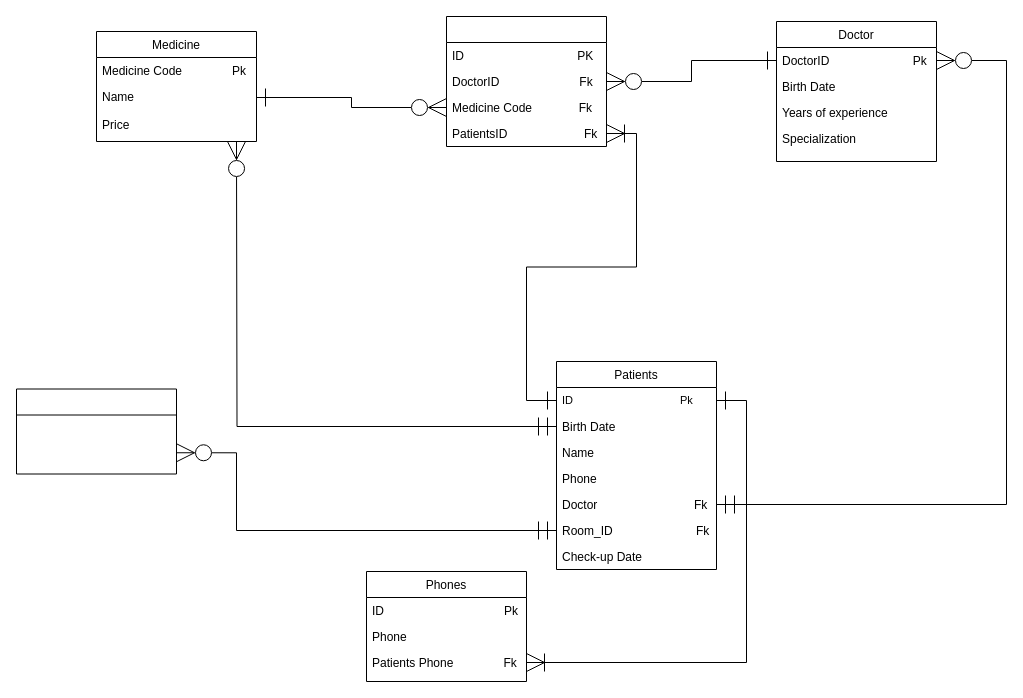
This 1023x698 diagram has some shape labels left out. Each missing label, with the box of its shape:
describes: (446, 16, 606, 146)
Room: (16, 388, 176, 474)
